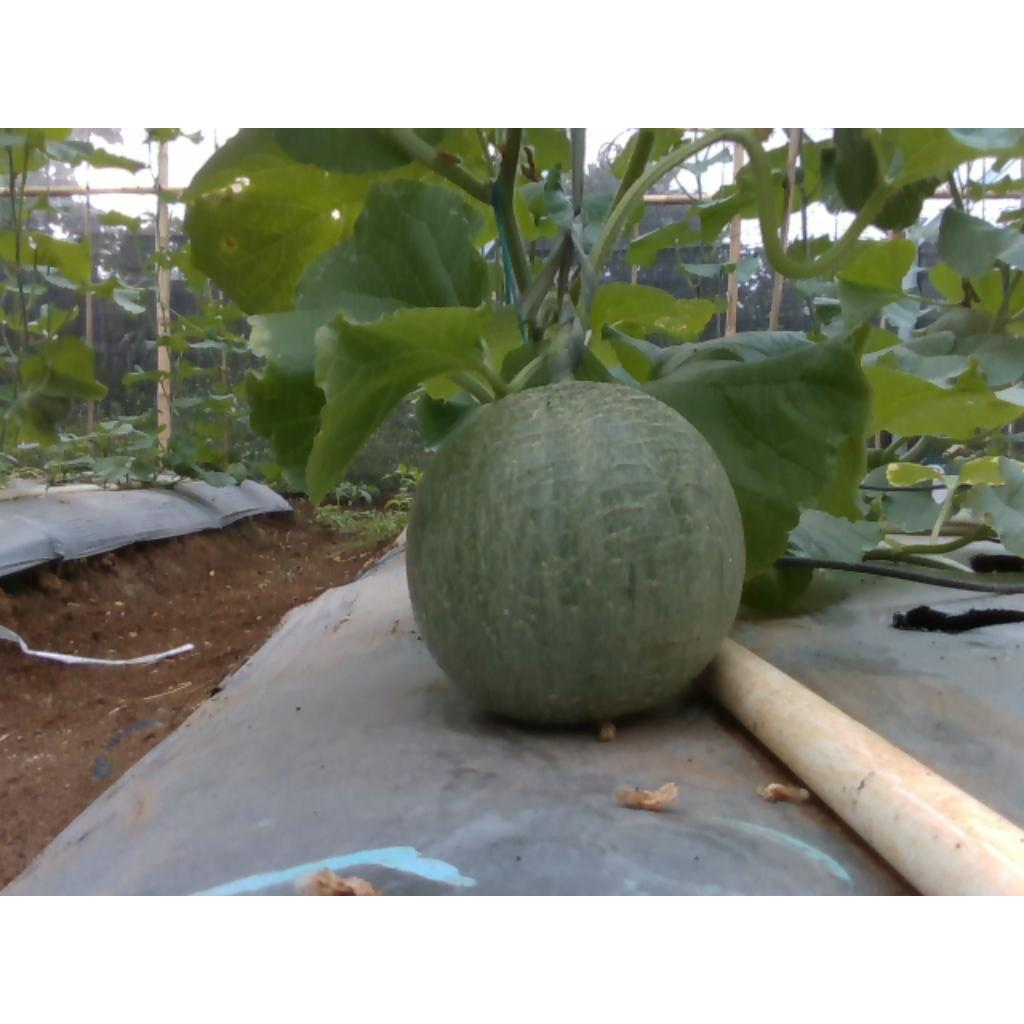melon: (410, 382, 747, 724)
